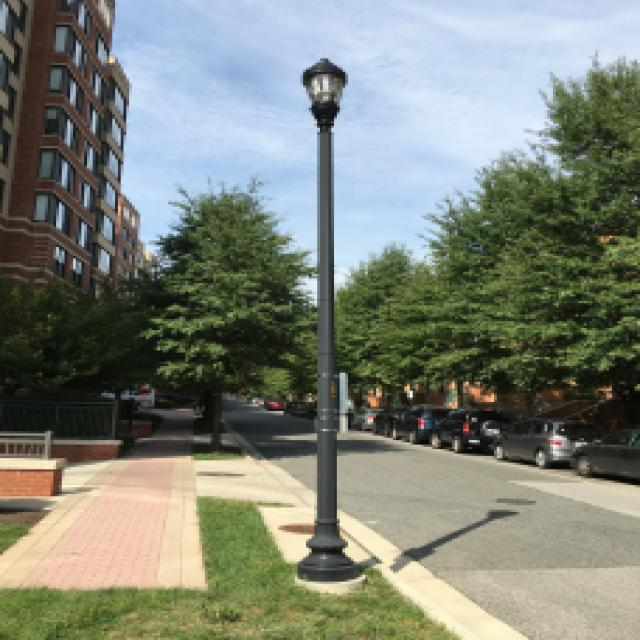Electric pole: (298, 58, 359, 586)
